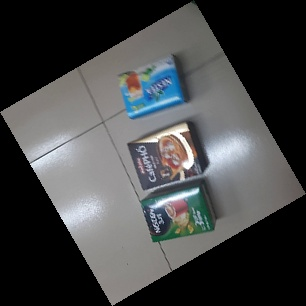CF pho: (127, 120, 208, 192)
Nes Rang: (139, 182, 216, 245)
Nestea: (115, 54, 190, 120)
